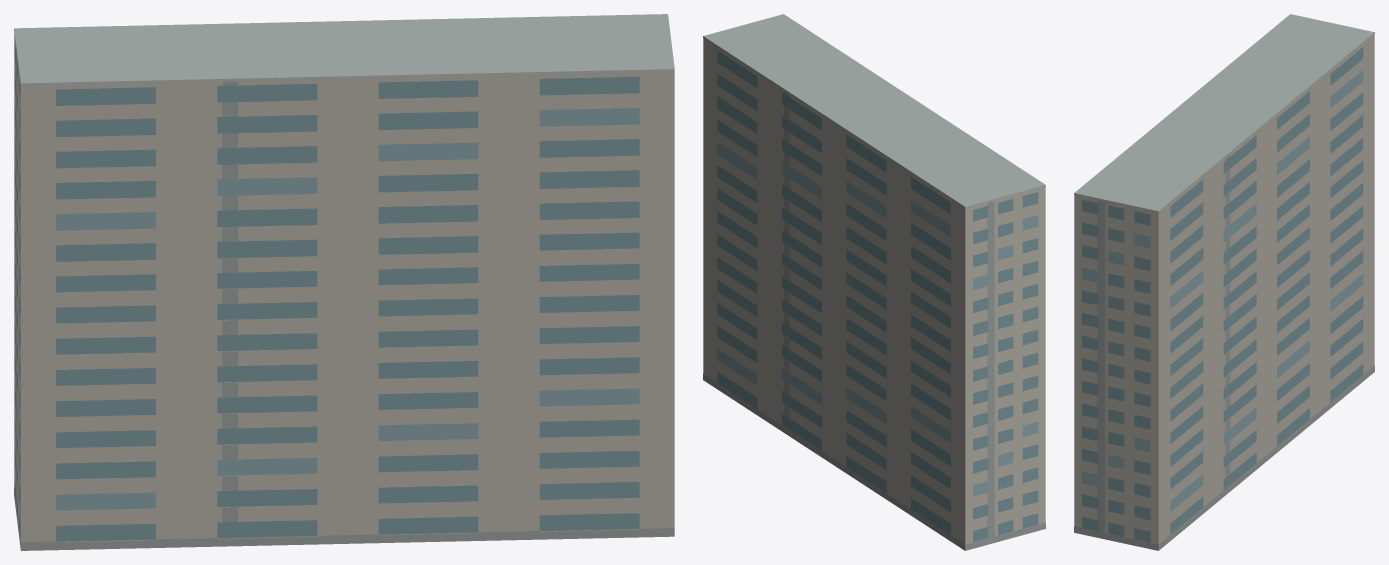
The model's file is residential-e1fde883-4605-4d11-bb29-7efa15bf9518.glb.
The picture shows the model from 3 angles, left to right: view 1: azimuth 30°, elevation 25°; view 2: azimuth 150°, elevation 25°; view 3: azimuth 270°, elevation 25°; orthographic projection. The views are drawn at different scales.
Visible parts, largest first — view 1: residential-e1fde883-4605-4d11-bb29-7efa15bf9518.tmp; view 2: residential-e1fde883-4605-4d11-bb29-7efa15bf9518.tmp; view 3: residential-e1fde883-4605-4d11-bb29-7efa15bf9518.tmp.
Part boxes in pixels (left/top/right/bottom): residential-e1fde883-4605-4d11-bb29-7efa15bf9518.tmp: left=14, top=14, right=674, bottom=550; residential-e1fde883-4605-4d11-bb29-7efa15bf9518.tmp: left=703, top=14, right=1045, bottom=550; residential-e1fde883-4605-4d11-bb29-7efa15bf9518.tmp: left=1074, top=14, right=1374, bottom=550.
Bounding box in the file's own units: 49.82 × 40 × 32.09.
